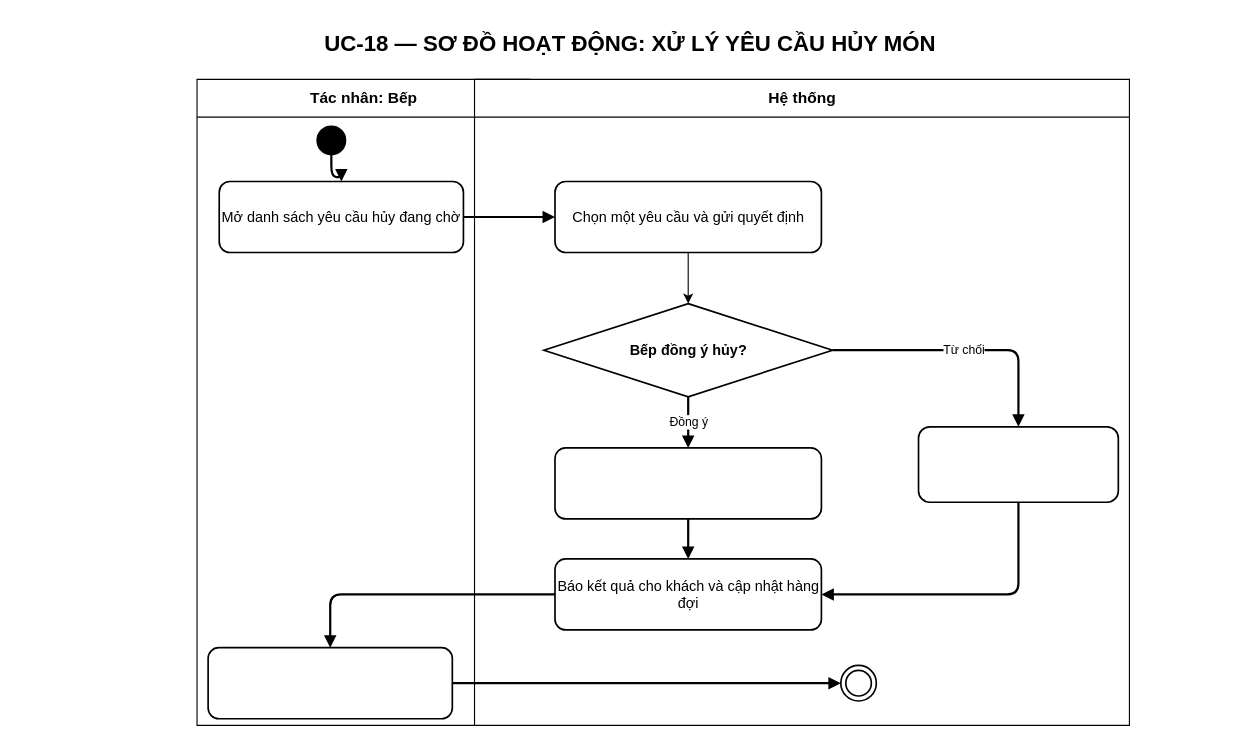
Image size: 1259x745. Some labels were removed from this diagram. Here are the shapes that lost their labels. From the top down, the centre of each, then its label:
At (x=688, y=483): "Chấp nhận yêu cầu và hủy món tương ứng".
At (x=1018, y=464): "Từ chối yêu cầu; giữ nguyên món".
At (x=330, y=682): "Yêu cầu rời khỏi danh sách chờ".
